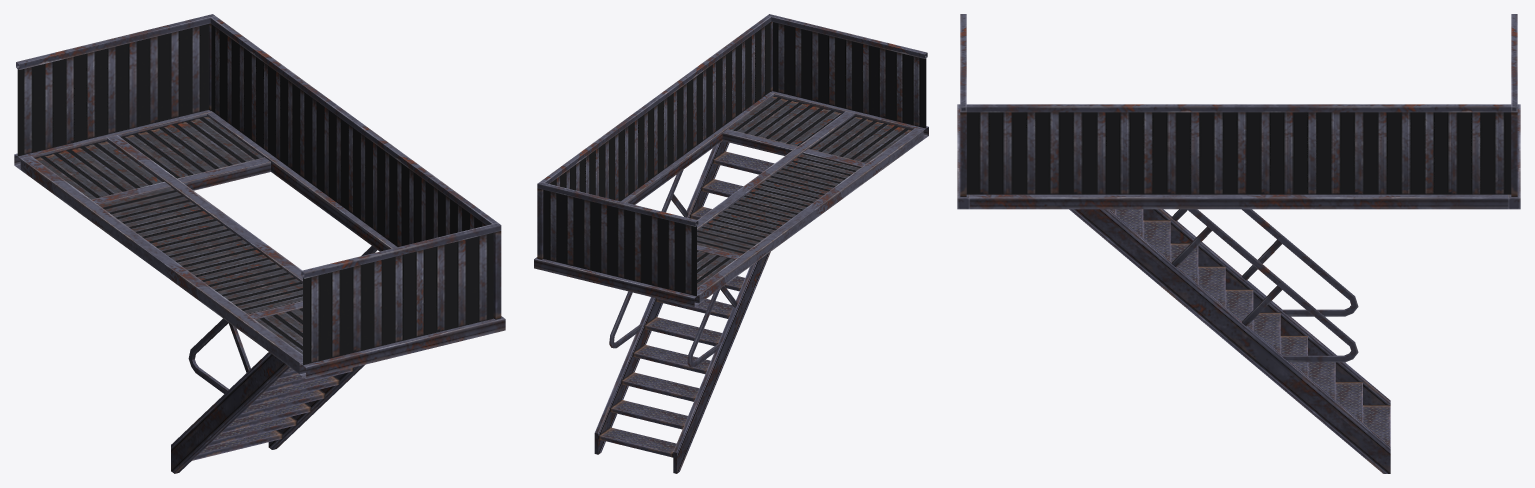
Rendered from TRF0610004.fbx.
The picture shows the model from 3 angles, left to right: view 1: azimuth 30°, elevation 25°; view 2: azimuth 150°, elevation 25°; view 3: azimuth 270°, elevation 25°; orthographic projection. The views are drawn at different scales.
Parts seen in each view (by area): view 1: smTRF0610004; view 2: smTRF0610004; view 3: smTRF0610004.
Part boxes in pixels (x1,y1,x2,y2): smTRF0610004: (14, 14, 505, 473); smTRF0610004: (534, 14, 928, 473); smTRF0610004: (957, 14, 1520, 473).
Size of what is drawn, in the model's own units: 293 by 537 by 741.
Materials: 1 (1 with a texture image).
